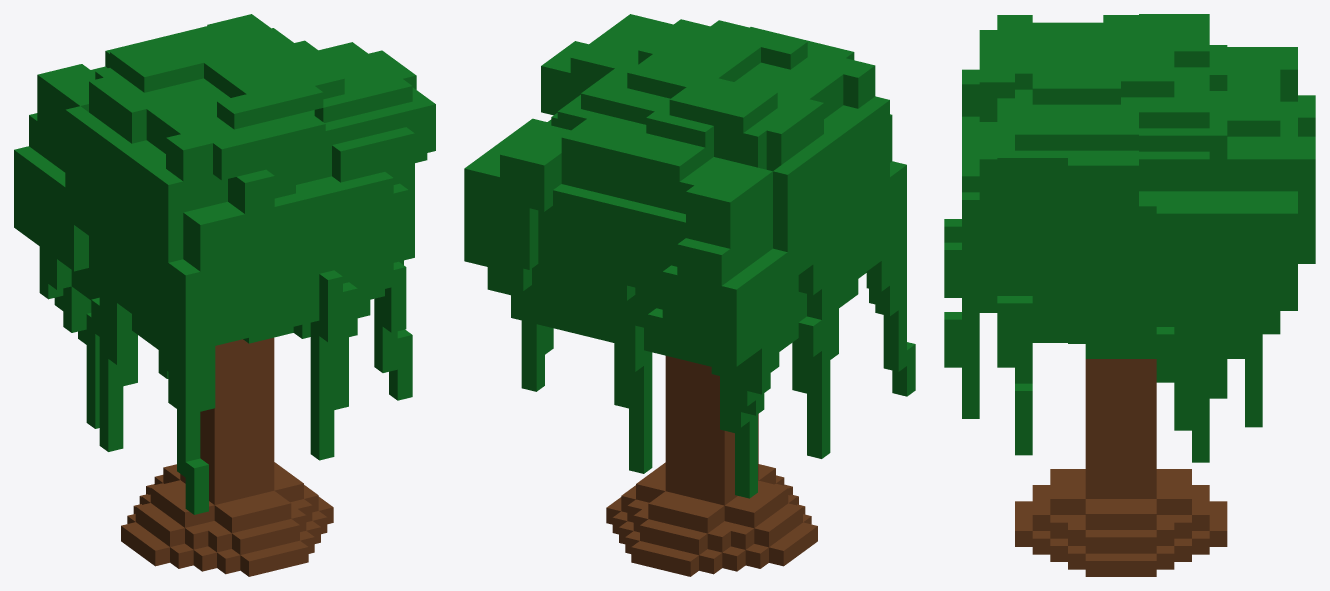
File: tree_jungle_1.dae
The picture shows the model from 3 angles, left to right: view 1: azimuth 30°, elevation 25°; view 2: azimuth 150°, elevation 25°; view 3: azimuth 270°, elevation 25°; orthographic projection. The views are drawn at different scales.
Parts seen in each view (by area): view 1: PlaneCOL; view 2: PlaneCOL; view 3: PlaneCOL.
Boxes of the visible parts, x1,y1,x2,y2 form: PlaneCOL: (14,14,435,576); PlaneCOL: (464,14,915,576); PlaneCOL: (944,14,1315,576).
Size of the model in its own units: 1.9 by 2.1 by 3.
